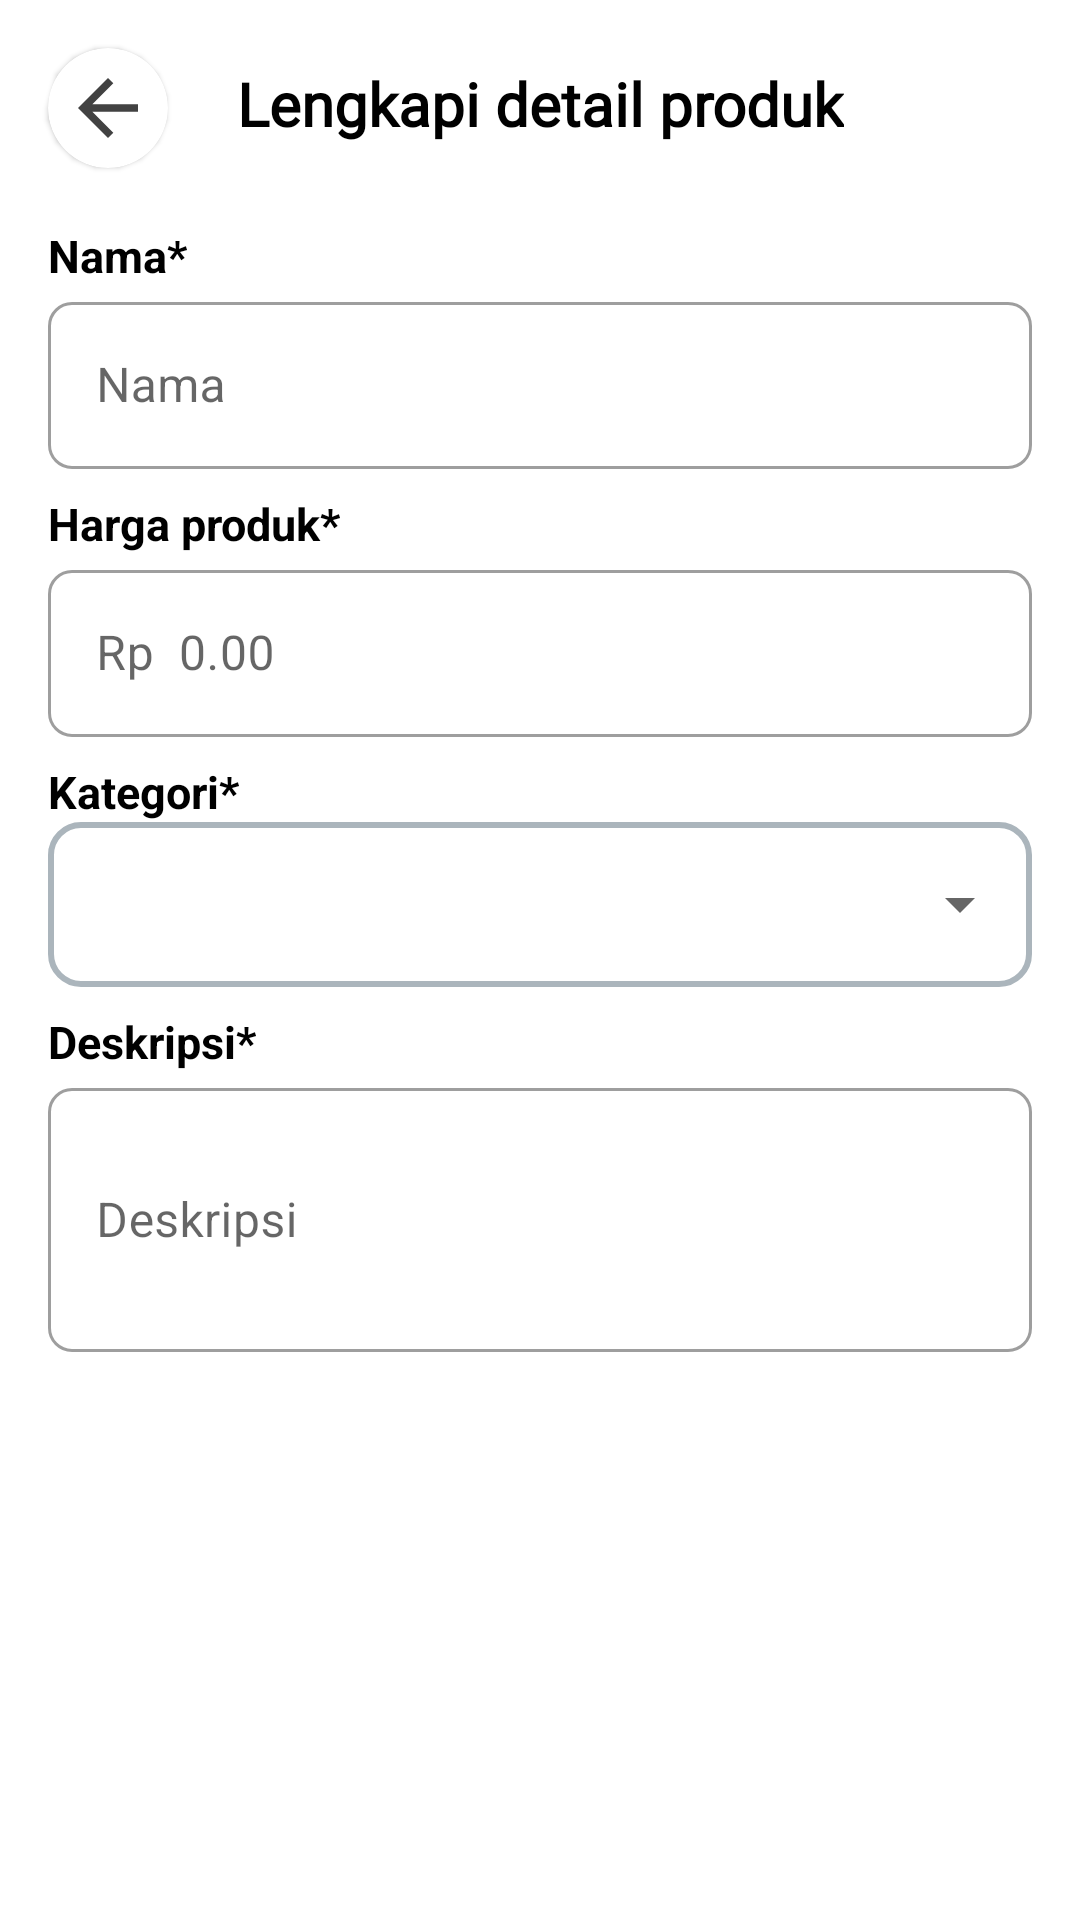

Icons on this 1080w x 1920h Android screen, each with its box as (x1, y1, x2, y2):
back smaller: (48, 49, 138, 168)
